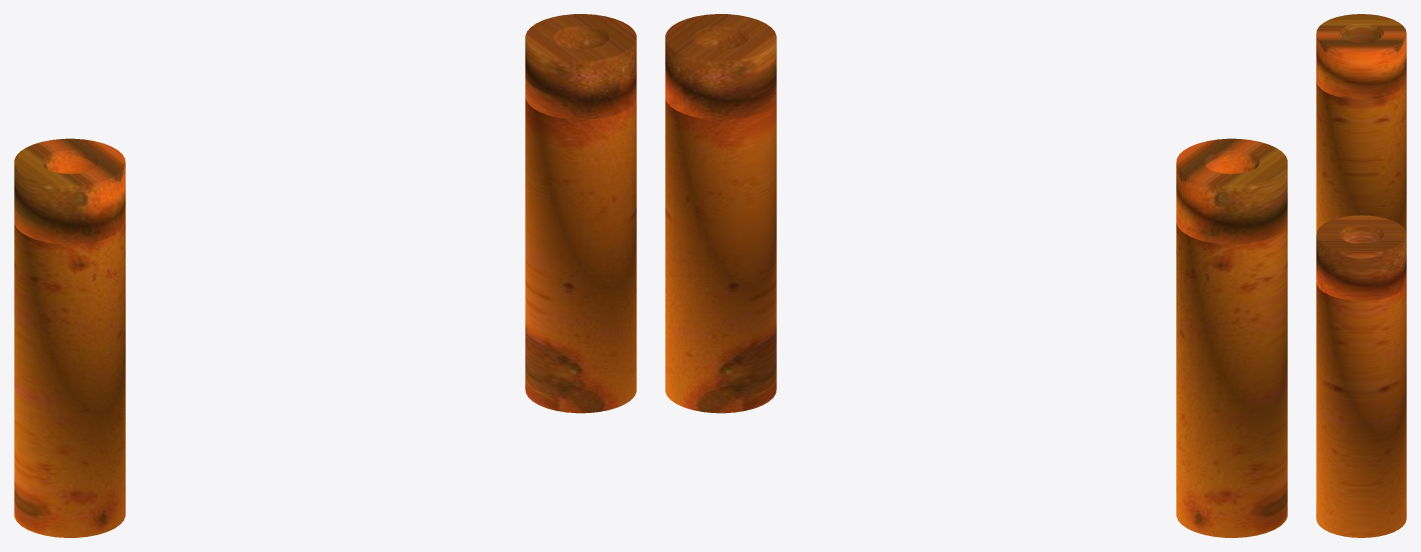
Rendered from Housings.fbx.
3 views of the same model, side by side, from view 1: azimuth 30°, elevation 25°; view 2: azimuth 150°, elevation 25°; view 3: azimuth 270°, elevation 25° (orthographic). The views are drawn at different scales.
Parts seen in each view (by area): view 1: PumpRHousing, PumpHousingL; view 2: PumpRHousing, PumpHousingL; view 3: PumpRHousing, PumpHousingL.
Part boxes in pixels (left/top/right/bottom): PumpRHousing: left=525, top=14, right=636, bottom=413; PumpHousingL: left=14, top=138, right=125, bottom=537; PumpRHousing: left=665, top=14, right=776, bottom=413; PumpHousingL: left=1176, top=138, right=1287, bottom=537; PumpRHousing: left=1316, top=215, right=1406, bottom=537; PumpHousingL: left=1316, top=14, right=1406, bottom=233.
Bounding box in the file's own units: 217 × 120 × 34.5.
